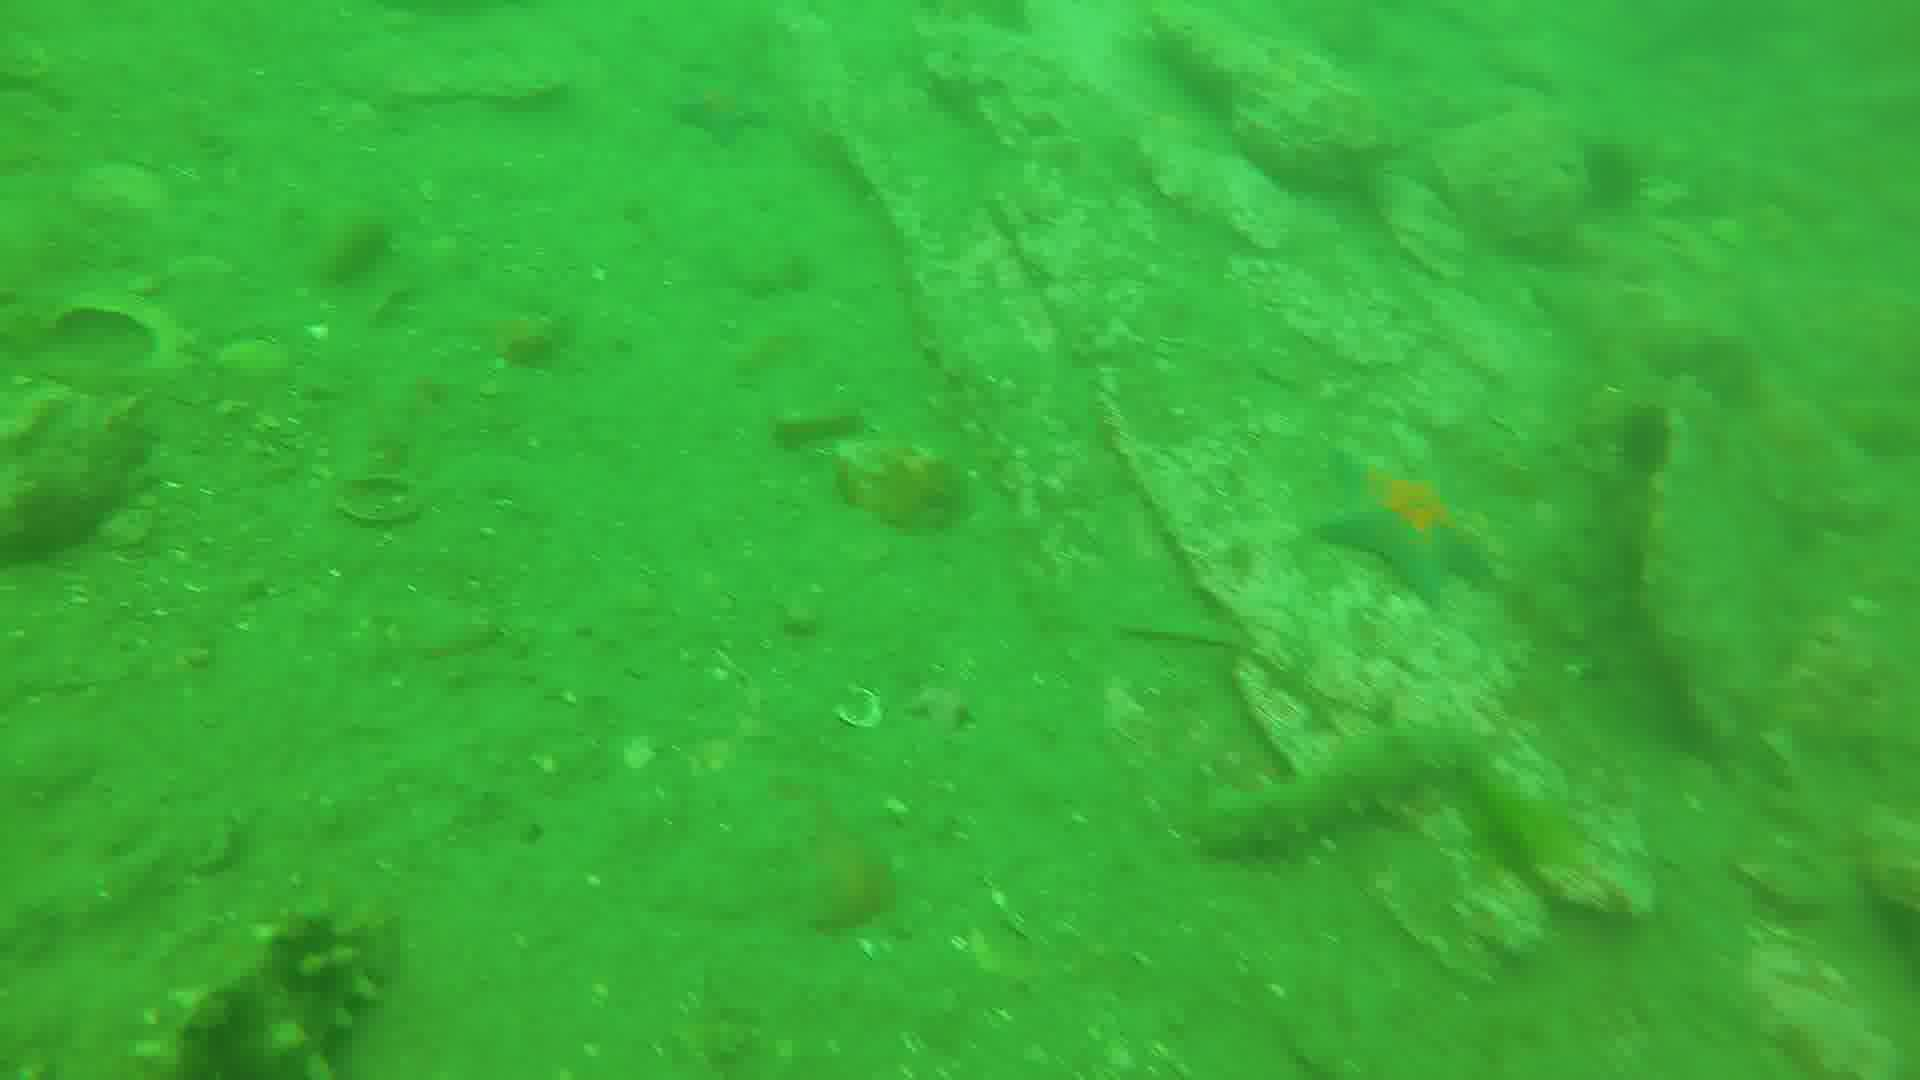echinus: (1577, 142, 1654, 215)
holothurian: (144, 909, 388, 1080), (1207, 720, 1469, 872)
starfish: (1313, 450, 1495, 607), (669, 66, 764, 146)
